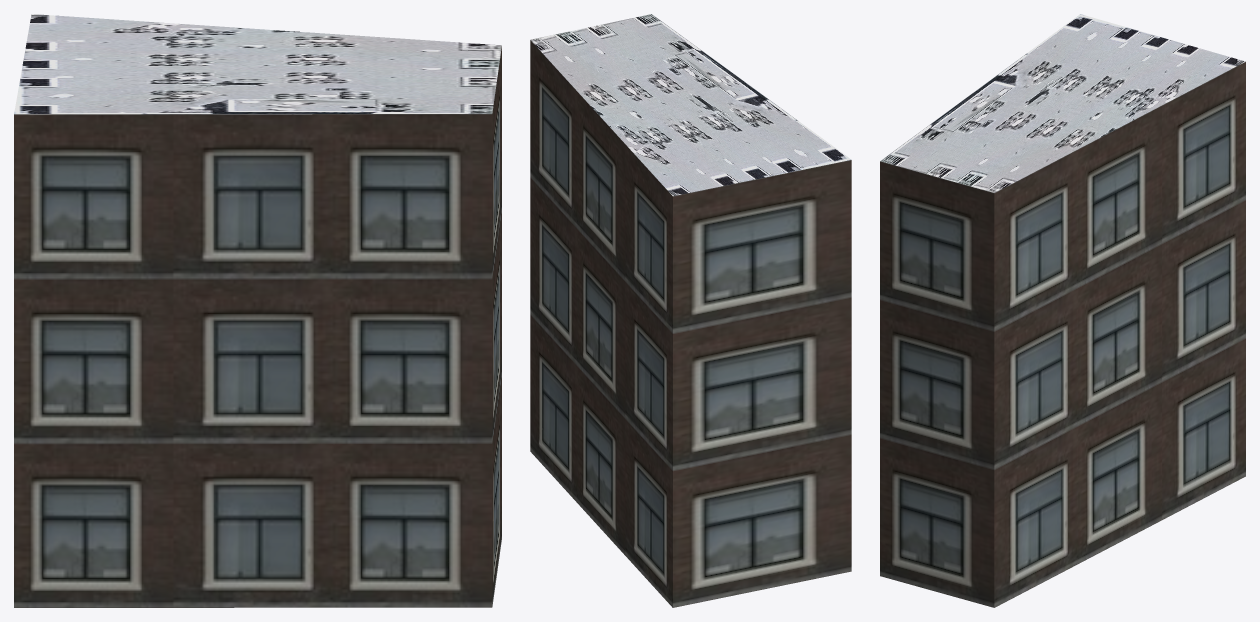
File: ResTex__5100.fbx
The picture shows the model from 3 angles, left to right: view 1: azimuth 30°, elevation 25°; view 2: azimuth 150°, elevation 25°; view 3: azimuth 270°, elevation 25°; orthographic projection. The views are drawn at different scales.
Parts seen in each view (by area): view 1: CityEngineMaterial_16_m, CityEngineMaterial_15_m; view 2: CityEngineMaterial_16_m, CityEngineMaterial_15_m; view 3: CityEngineMaterial_16_m, CityEngineMaterial_15_m.
Part boxes in pixels (x1,y1,x2,y2): CityEngineMaterial_16_m: (14, 46, 501, 607); CityEngineMaterial_15_m: (14, 14, 501, 114); CityEngineMaterial_16_m: (530, 40, 851, 607); CityEngineMaterial_15_m: (530, 14, 851, 196); CityEngineMaterial_16_m: (880, 61, 1245, 607); CityEngineMaterial_15_m: (880, 14, 1245, 192).
Bounding box in the file's own units: 8.33 × 9 × 7.19.
2 materials, 2 textured.
